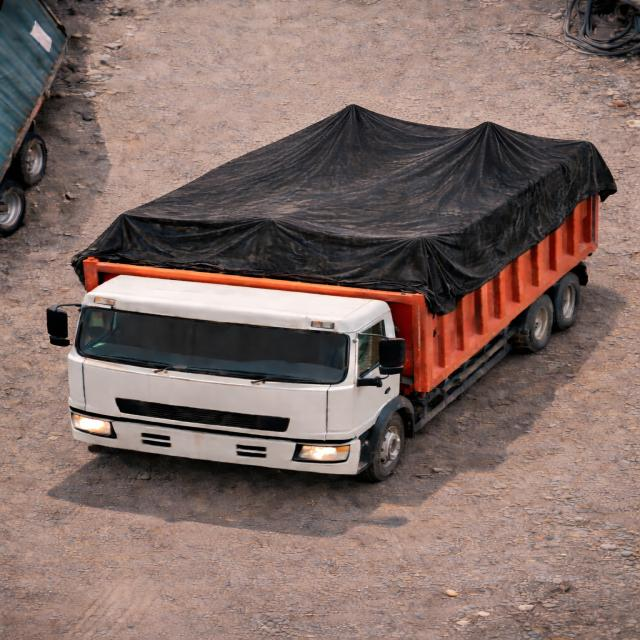Box: (75, 101, 616, 301)
Truck: (39, 86, 628, 482)
